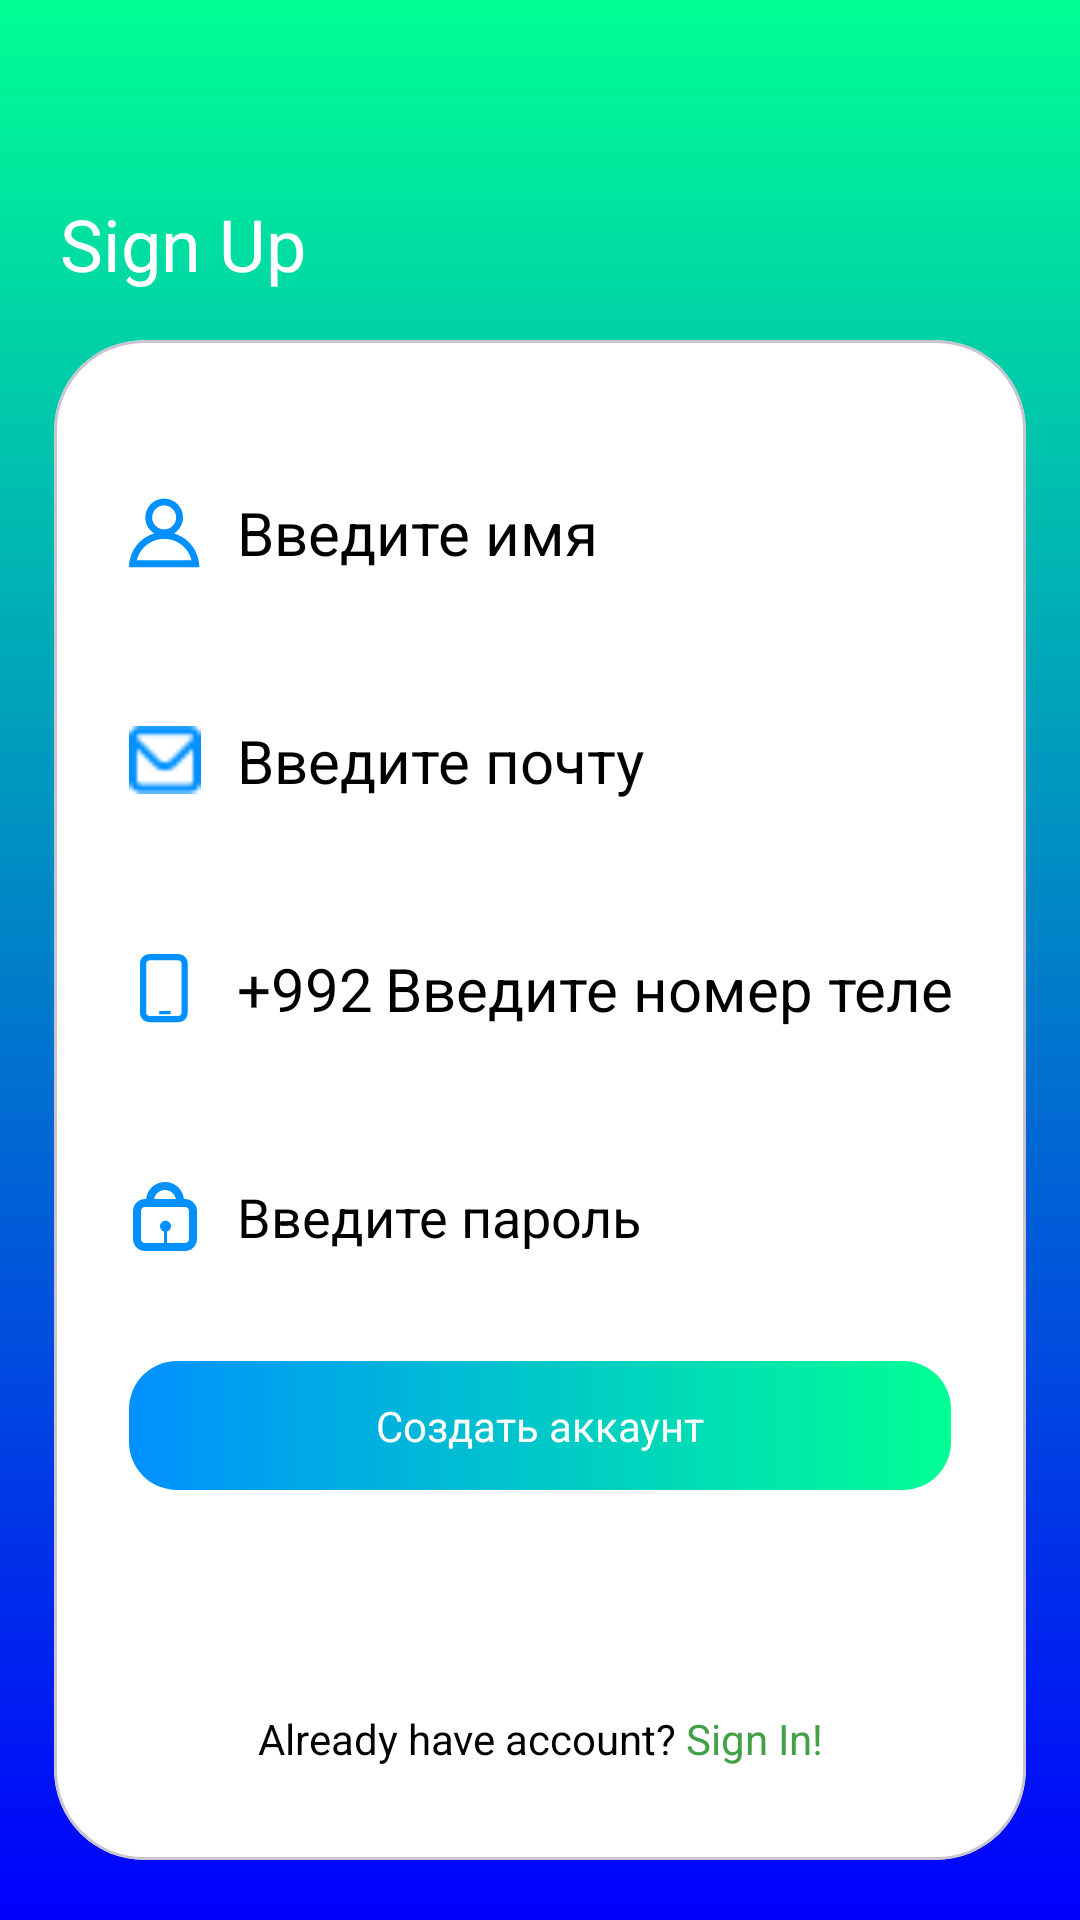

Named icons in this screenshot (1080px×1920px) and their bounding boxes, bbox=(x1, y1, x2, y2):
email: bbox=(129, 726, 201, 794)
password: bbox=(133, 1182, 197, 1251)
phone: bbox=(140, 954, 188, 1023)
user: bbox=(129, 498, 200, 568)
